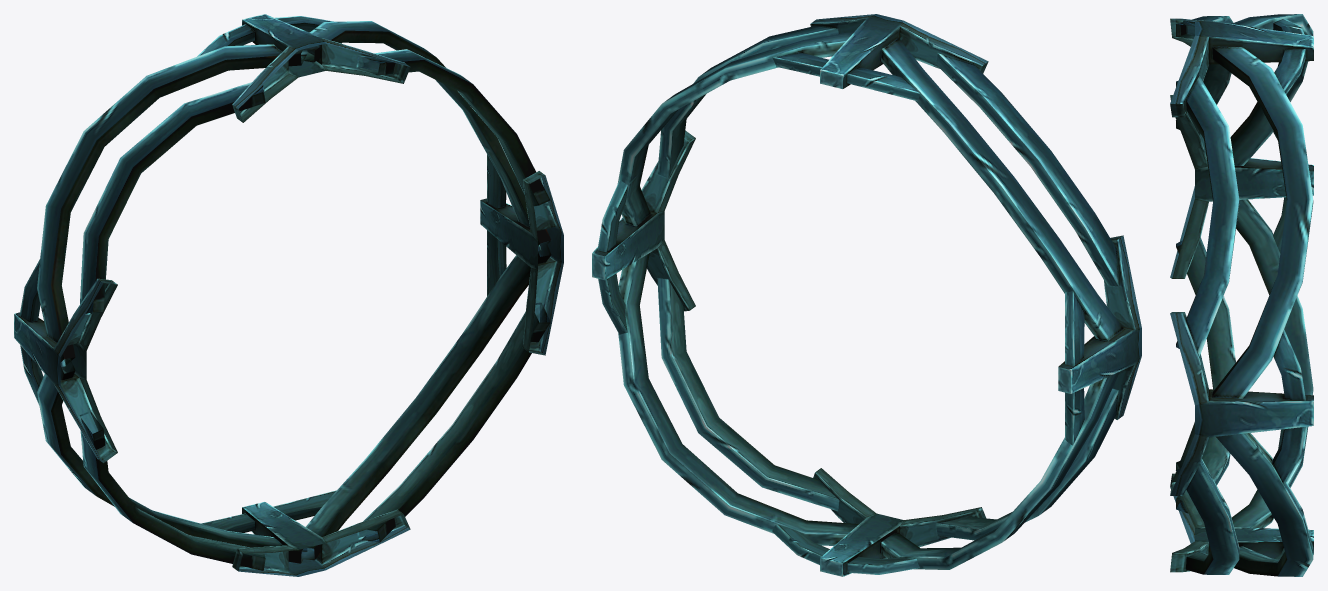
The model's file is mesh_Brazier_03_Frame.FBX.
The picture shows the model from 3 angles, left to right: view 1: azimuth 30°, elevation 25°; view 2: azimuth 150°, elevation 25°; view 3: azimuth 270°, elevation 25°; orthographic projection.
Parts seen in each view (by area): view 1: mesh_Brazier_03_Metal; view 2: mesh_Brazier_03_Metal; view 3: mesh_Brazier_03_Metal.
Boxes of the visible parts, box(x1,y1,x2,y2) form: mesh_Brazier_03_Metal: box(14, 14, 563, 576); mesh_Brazier_03_Metal: box(592, 14, 1141, 576); mesh_Brazier_03_Metal: box(1170, 14, 1313, 576).
Bounding box in the file's own units: 84.68 × 84.68 × 20.7.
